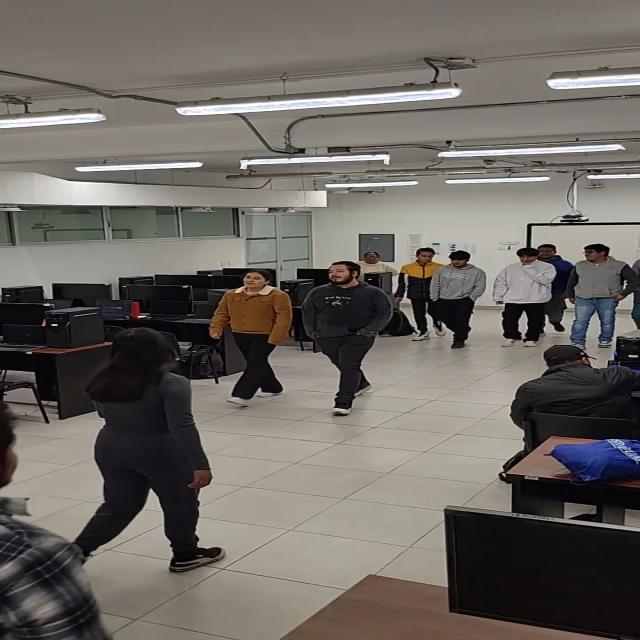Persona: (74, 326, 228, 573), (0, 397, 117, 640), (299, 260, 395, 416), (209, 269, 295, 407), (565, 242, 639, 350), (491, 248, 557, 348), (428, 250, 487, 349), (394, 248, 448, 342), (534, 244, 577, 332)
